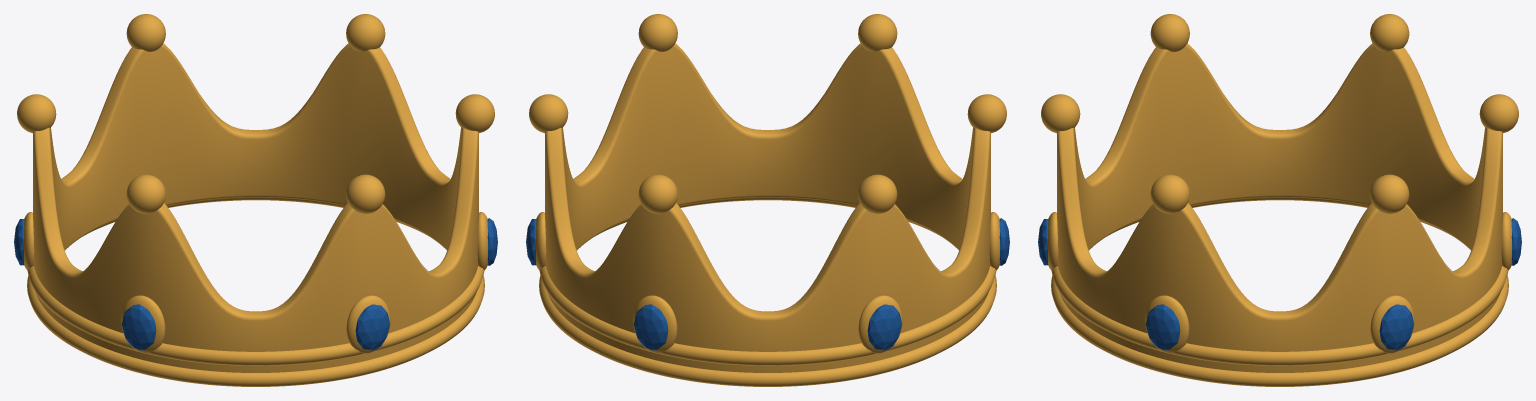
The model's file is Crown.glb.
3 views of the same model, side by side, from view 1: azimuth 30°, elevation 25°; view 2: azimuth 150°, elevation 25°; view 3: azimuth 270°, elevation 25° (orthographic).
Visible parts, largest first — view 1: Crown open circlet, Rolled lower rim, Rolled lower rim.001, Rounded crown tip, Rounded crown tip.005, Faceted sapphire, Faceted sapphire.005, Rounded crown tip.004, Rounded crown tip.001, Rounded crown tip.002, Rounded crown tip.003, Gem gold setting.005 (+3 smaller); view 2: Crown open circlet, Rolled lower rim, Rolled lower rim.001, Rounded crown tip.003, Rounded crown tip.004, Faceted sapphire.004, Faceted sapphire.003, Rounded crown tip.005, Rounded crown tip.002, Rounded crown tip.001, Rounded crown tip, Gem gold setting.003 (+3 smaller); view 3: Crown open circlet, Rolled lower rim, Rolled lower rim.001, Rounded crown tip.001, Rounded crown tip.002, Faceted sapphire.002, Faceted sapphire.001, Rounded crown tip, Rounded crown tip.003, Rounded crown tip.004, Rounded crown tip.005, Gem gold setting.001 (+3 smaller).
Boxes of the visible parts, x1,y1,x2,y2 form: Crown open circlet: (33,43,478,372); Rolled lower rim: (27,197,484,386); Rolled lower rim.001: (27,266,484,365); Rounded crown tip: (346,174,385,213); Rounded crown tip.005: (126,174,165,213); Faceted sapphire: (355,304,389,350); Faceted sapphire.005: (122,304,156,350); Rounded crown tip.004: (17,94,56,133); Rounded crown tip.001: (455,94,494,133); Rounded crown tip.002: (346,14,385,51); Rounded crown tip.003: (126,14,165,51); Gem gold setting.005: (121,295,165,353); Crown open circlet: (545,43,990,372); Rolled lower rim: (539,197,996,386); Rolled lower rim.001: (539,266,996,365); Rounded crown tip.003: (638,174,677,213); Rounded crown tip.004: (858,174,897,213); Faceted sapphire.004: (867,304,901,350); Faceted sapphire.003: (634,304,668,350); Rounded crown tip.005: (967,94,1006,133); Rounded crown tip.002: (529,94,568,133); Rounded crown tip.001: (638,14,677,51); Rounded crown tip: (858,14,897,51); Gem gold setting.003: (633,295,677,353); Crown open circlet: (1057,43,1502,372); Rolled lower rim: (1051,197,1508,386); Rolled lower rim.001: (1051,266,1508,365); Rounded crown tip.001: (1150,174,1189,213); Rounded crown tip.002: (1370,174,1409,213); Faceted sapphire.002: (1379,304,1413,350); Faceted sapphire.001: (1146,304,1180,350); Rounded crown tip: (1041,94,1080,133); Rounded crown tip.003: (1479,94,1518,133); Rounded crown tip.004: (1370,14,1409,51); Rounded crown tip.005: (1150,14,1189,51); Gem gold setting.001: (1145,295,1189,353).
Size of the model in its own units: 0.628 by 0.2975 by 0.664.
